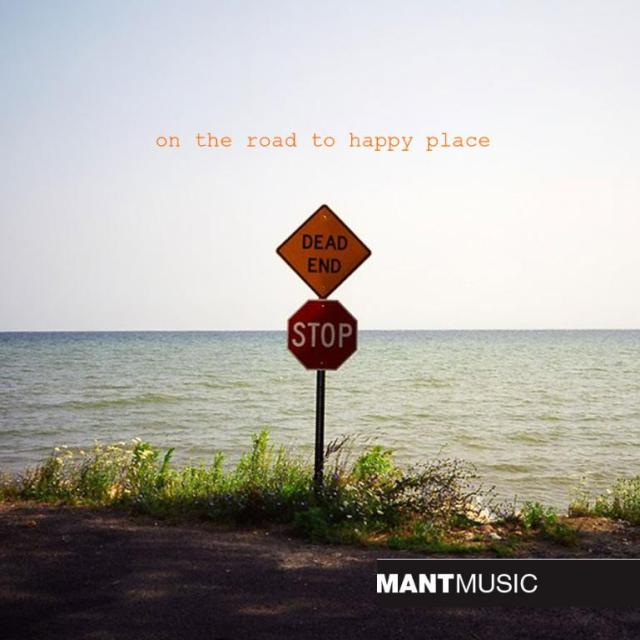Stop-sign: (287, 301, 359, 373)
